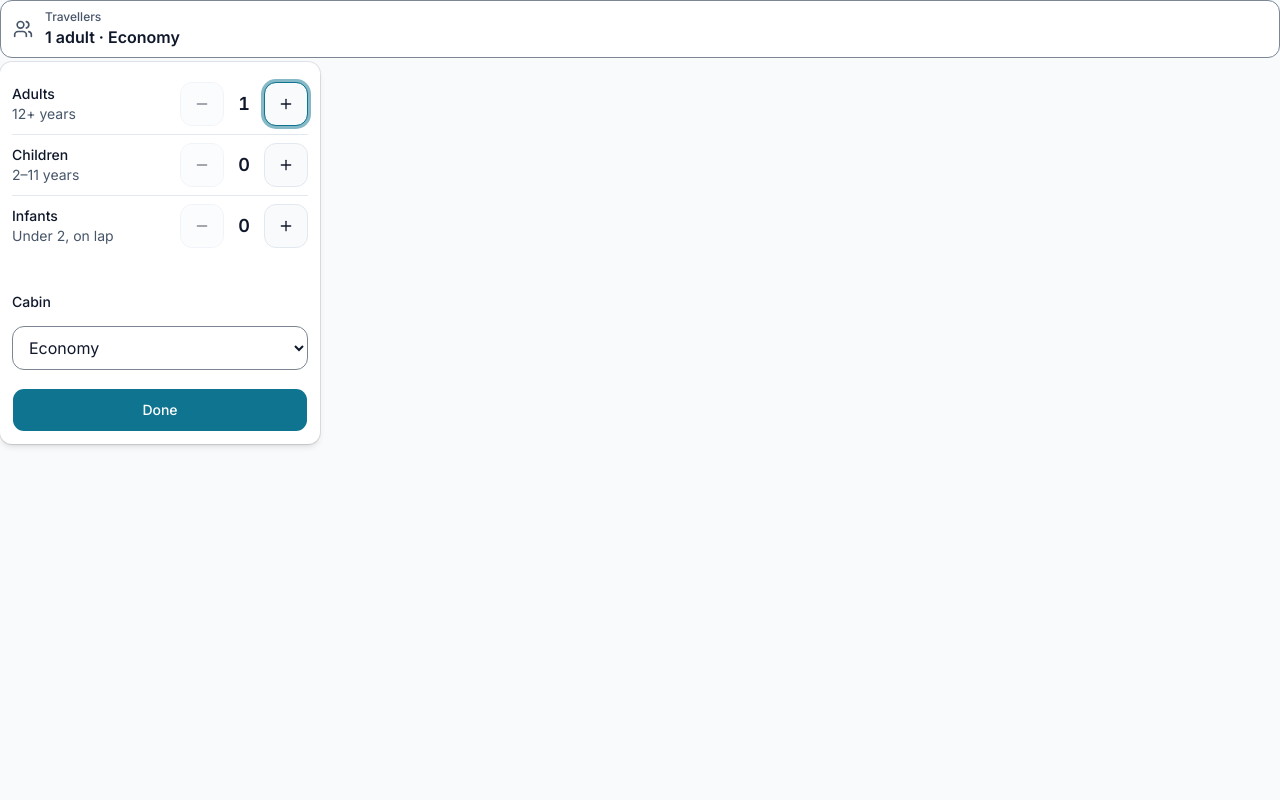
PassengerPicker › changes cabin with the native select
This screenshot has width=1280, height=800.
Select "Business" in the dropdown labelled "Cabin" at (160, 348), box [12, 326, 308, 370]
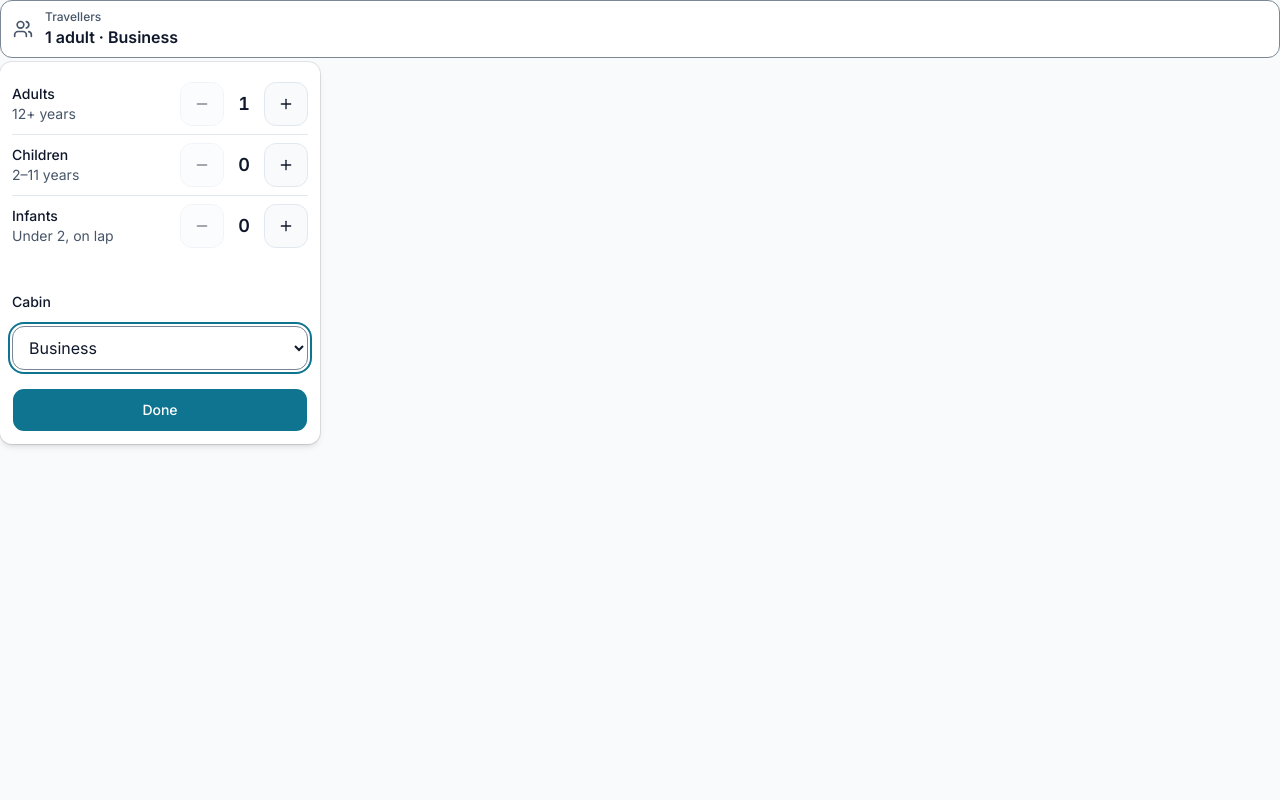
Result: the button "Travellers 1 adult · Business" is shown at [0, 0, 1279, 58]
